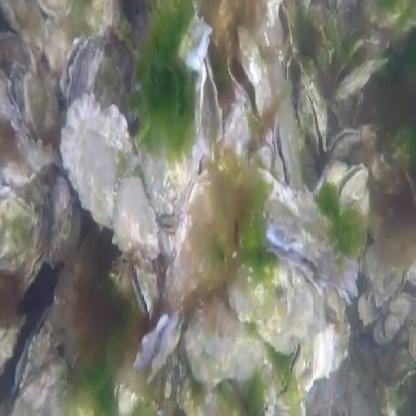Oyster- Indeterminate: (330, 32, 388, 101), (14, 308, 59, 391), (0, 187, 39, 273), (273, 97, 303, 188), (276, 342, 314, 409), (296, 77, 329, 153), (60, 34, 91, 100), (180, 13, 212, 71), (21, 248, 48, 291), (327, 128, 362, 161), (114, 381, 144, 416), (324, 288, 345, 322), (162, 366, 176, 399)
Oyster-Closed: (61, 91, 139, 229), (230, 265, 313, 355), (111, 173, 159, 257), (308, 317, 350, 380), (48, 174, 70, 266), (25, 76, 59, 129), (0, 309, 25, 371), (363, 0, 410, 27), (19, 136, 52, 172), (315, 160, 348, 196), (84, 0, 113, 36), (45, 28, 69, 68), (357, 293, 381, 325), (37, 0, 73, 19), (385, 315, 400, 337)
Oyster-Open: (173, 171, 216, 291), (228, 24, 273, 121), (133, 308, 183, 387), (195, 53, 223, 143), (267, 200, 306, 253), (131, 266, 161, 319), (337, 163, 370, 207), (277, 0, 293, 49)
